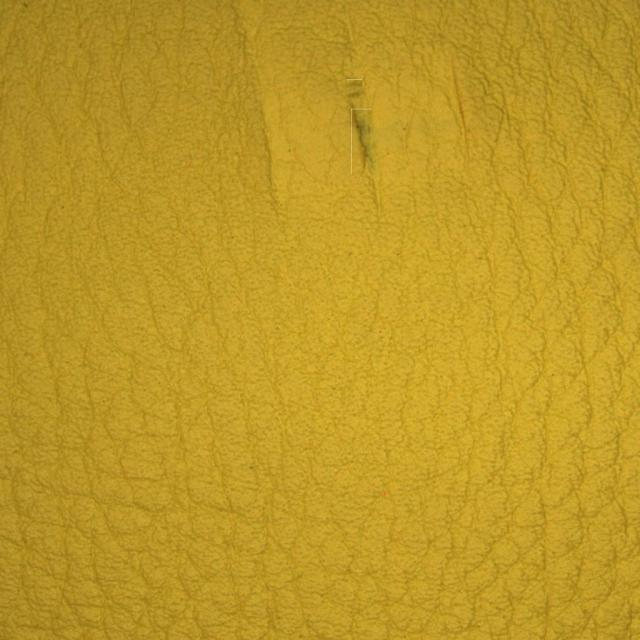Bacterial Injury: (256, 17, 488, 231)
